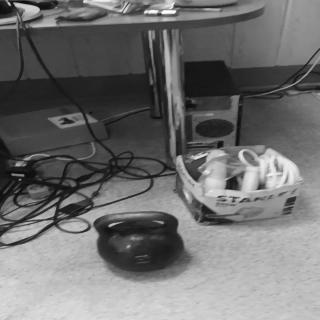kettlebell: (96, 212, 185, 273)
